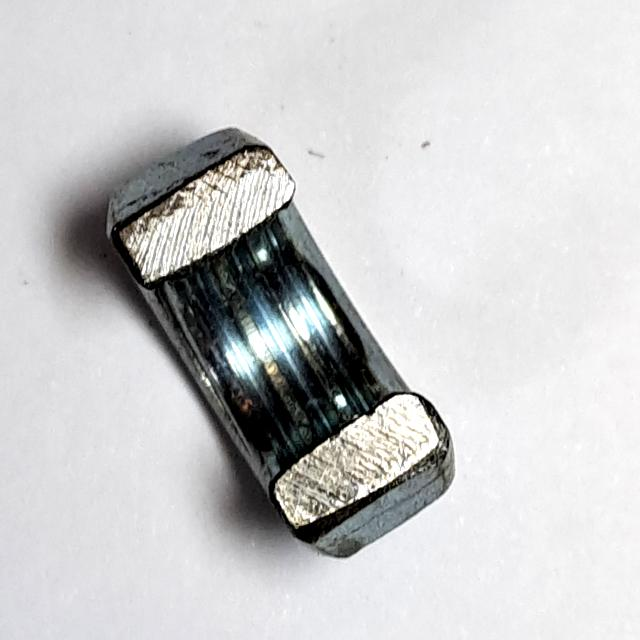Side-Fracture: (96, 109, 471, 573)
